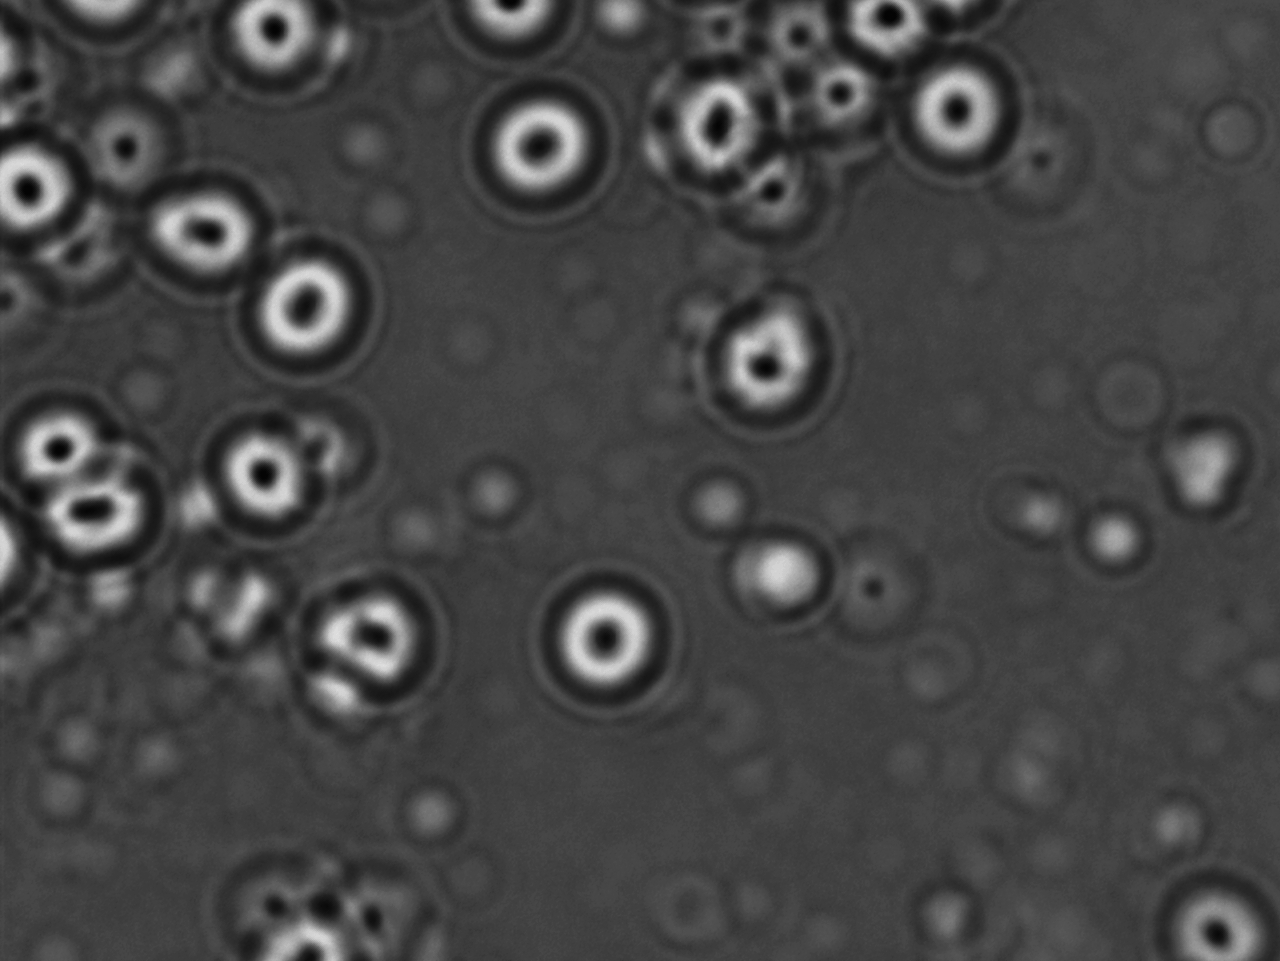depth:24: (458, 75, 627, 227), (289, 549, 443, 702), (238, 239, 391, 386), (538, 564, 679, 710), (691, 295, 839, 431), (896, 44, 1029, 181), (138, 167, 270, 299), (198, 408, 332, 535), (646, 63, 782, 187), (32, 459, 162, 583)
